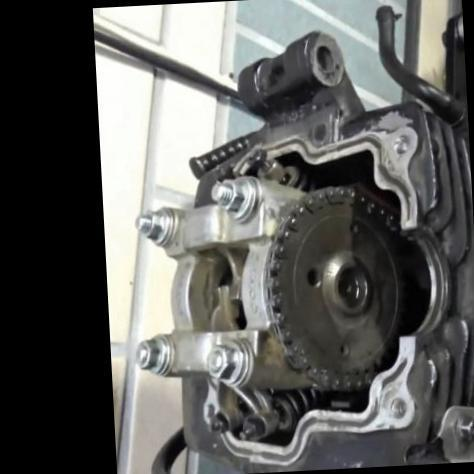hole: (390, 398, 408, 420), (394, 134, 410, 154)
